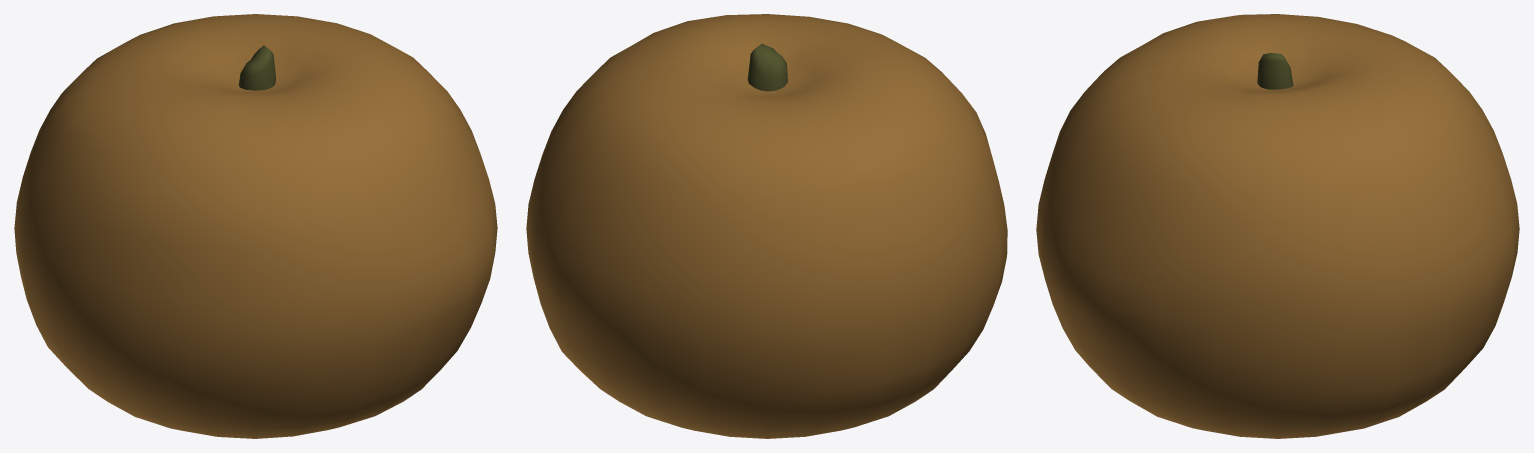
File: citrus lump.fbx
3 views of the same model, side by side, from view 1: azimuth 30°, elevation 25°; view 2: azimuth 150°, elevation 25°; view 3: azimuth 270°, elevation 25° (orthographic).
Visible parts, largest first — view 1: pSphere3; view 2: pSphere3; view 3: pSphere3.
Part boxes in pixels (<box>): pSphere3: <box>14,14,497,438</box>; pSphere3: <box>526,14,1007,438</box>; pSphere3: <box>1036,14,1519,438</box>.
Bounding box in the file's own units: 0.0951 × 0.0749 × 0.0959.
